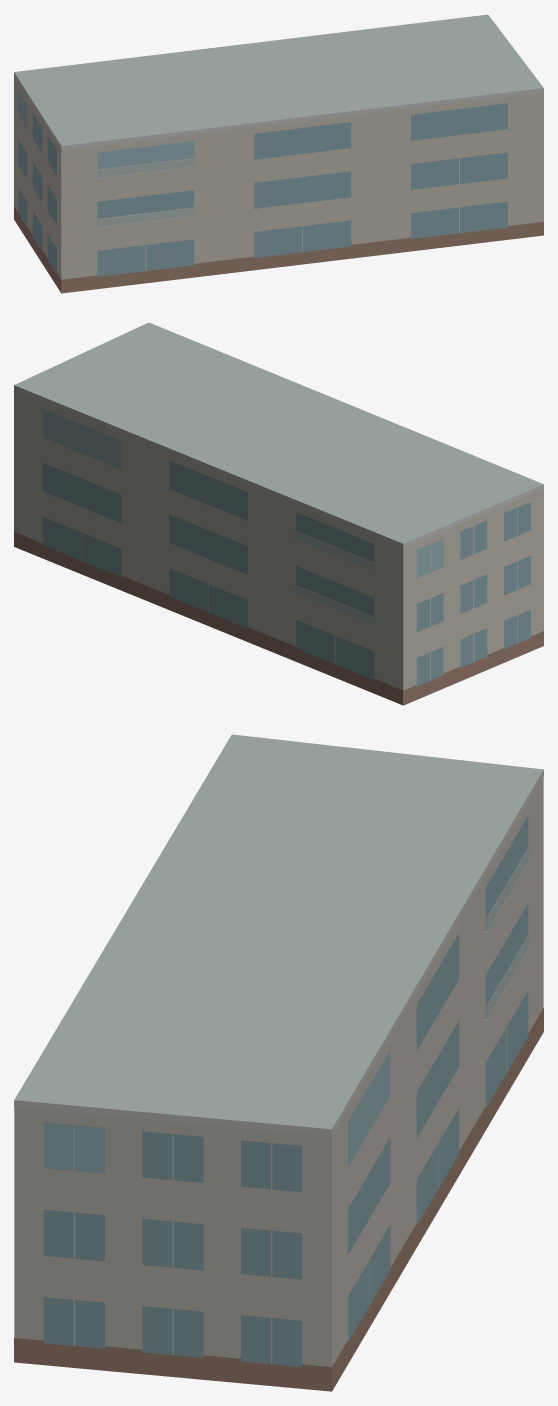
The model's file is survey-upis-32870200.glb.
3 views of the same model, one above another, from view 1: azimuth 30°, elevation 25°; view 2: azimuth 150°, elevation 25°; view 3: azimuth 270°, elevation 25° (orthographic). The views are drawn at different scales.
Visible parts, largest first — view 1: survey-upis-32870200.tmp; view 2: survey-upis-32870200.tmp; view 3: survey-upis-32870200.tmp.
Part boxes in pixels (x1,y1,x2,y2): survey-upis-32870200.tmp: [14, 14, 543, 293]; survey-upis-32870200.tmp: [14, 322, 543, 705]; survey-upis-32870200.tmp: [14, 734, 543, 1391].
Size of the model in its own units: 29.56 by 9.15 by 16.76.
